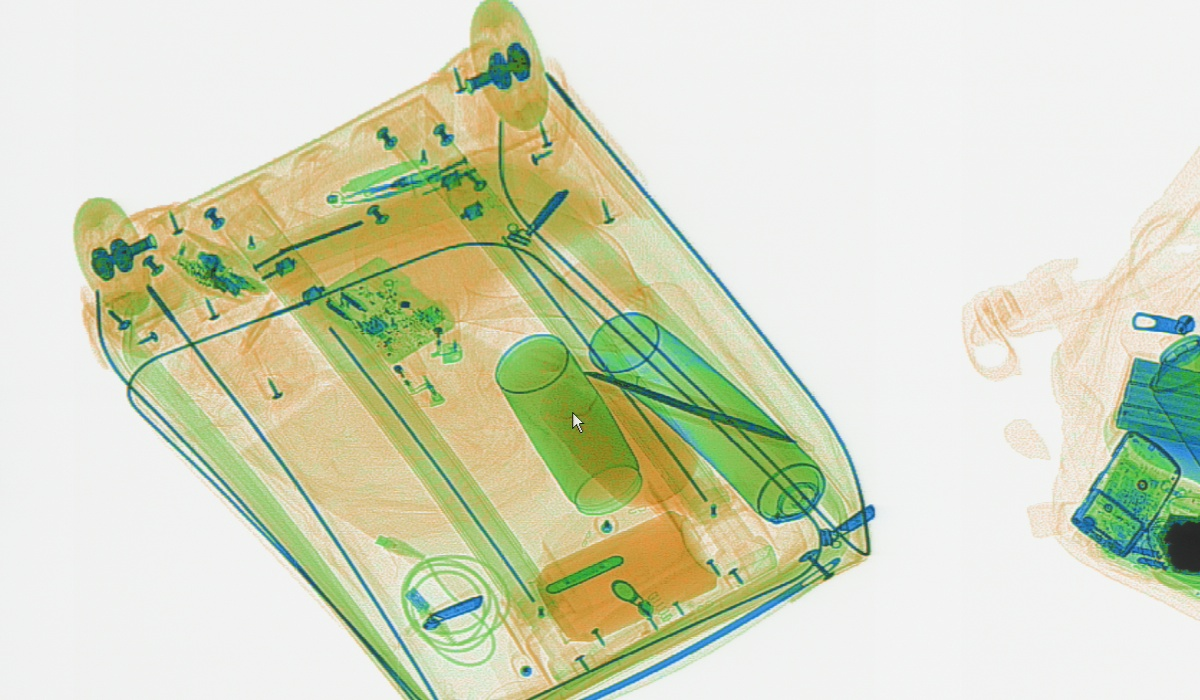knife: (568, 361, 817, 453)
lighter: (367, 324, 445, 410), (421, 289, 462, 364)
pressure: (587, 314, 826, 525)
